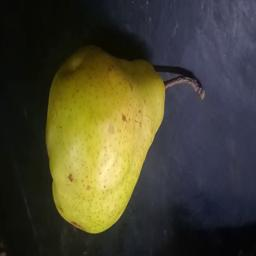Pear Semifresh: (34, 45, 207, 238)
